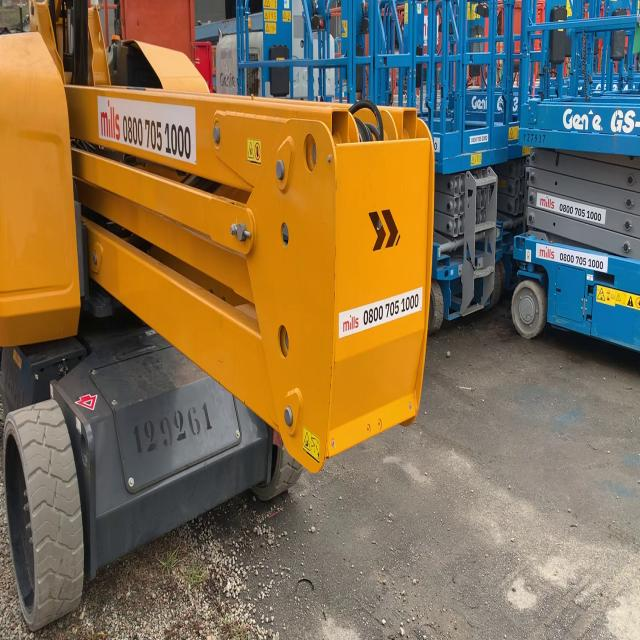Adesivo Longo: (95, 91, 197, 170), (337, 285, 425, 342), (536, 190, 608, 228), (535, 242, 610, 275)
